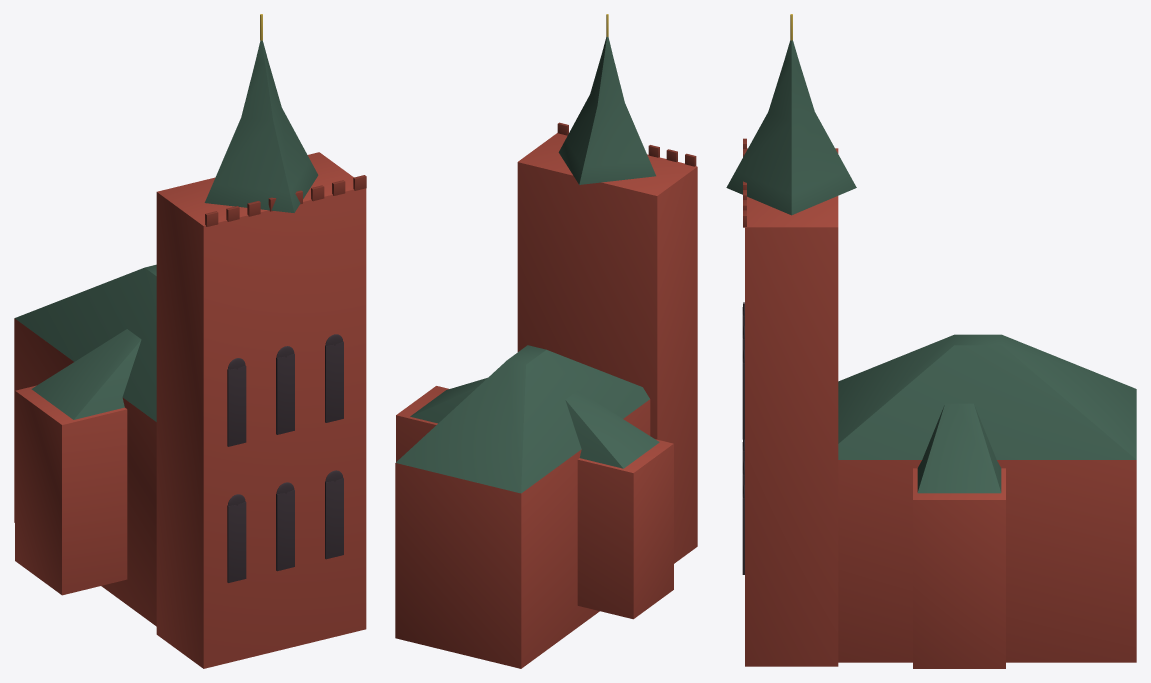
The model's file is marco_rostock.glb.
3 renders of one model, left to right at view 1: azimuth 30°, elevation 25°; view 2: azimuth 150°, elevation 25°; view 3: azimuth 270°, elevation 25°, orthographic. The views are drawn at different scales.
Parts seen in each view (by area): view 1: marco_rostock; view 2: marco_rostock; view 3: marco_rostock.
Part boxes in pixels (x1,y1,x2,y2): marco_rostock: (14,14,366,668); marco_rostock: (395,14,697,668); marco_rostock: (726,14,1136,668).
Size of the model in its own units: 34 by 72.5 by 44.
